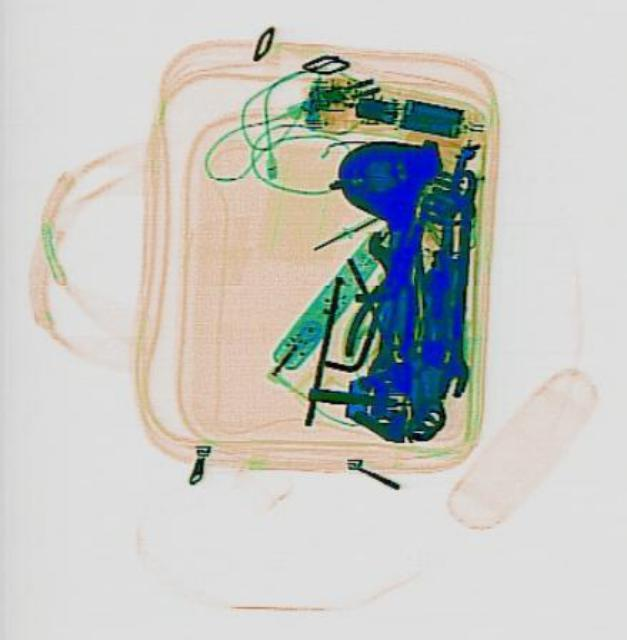Wrench: (435, 167, 475, 396), (361, 228, 403, 376)
